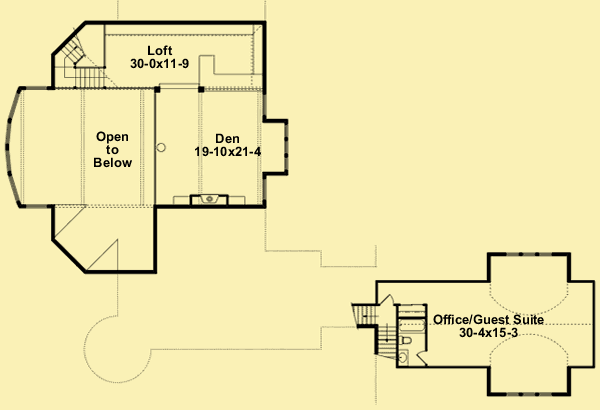door: (414, 349, 429, 365)
large sink: (398, 333, 414, 346)
small sink: (396, 348, 411, 366)
stairs: (351, 294, 400, 366), (55, 32, 118, 87)
tub: (401, 315, 428, 336)
windows: (501, 389, 559, 400), (503, 247, 556, 259), (282, 121, 291, 174), (24, 202, 50, 212), (260, 175, 269, 200)
